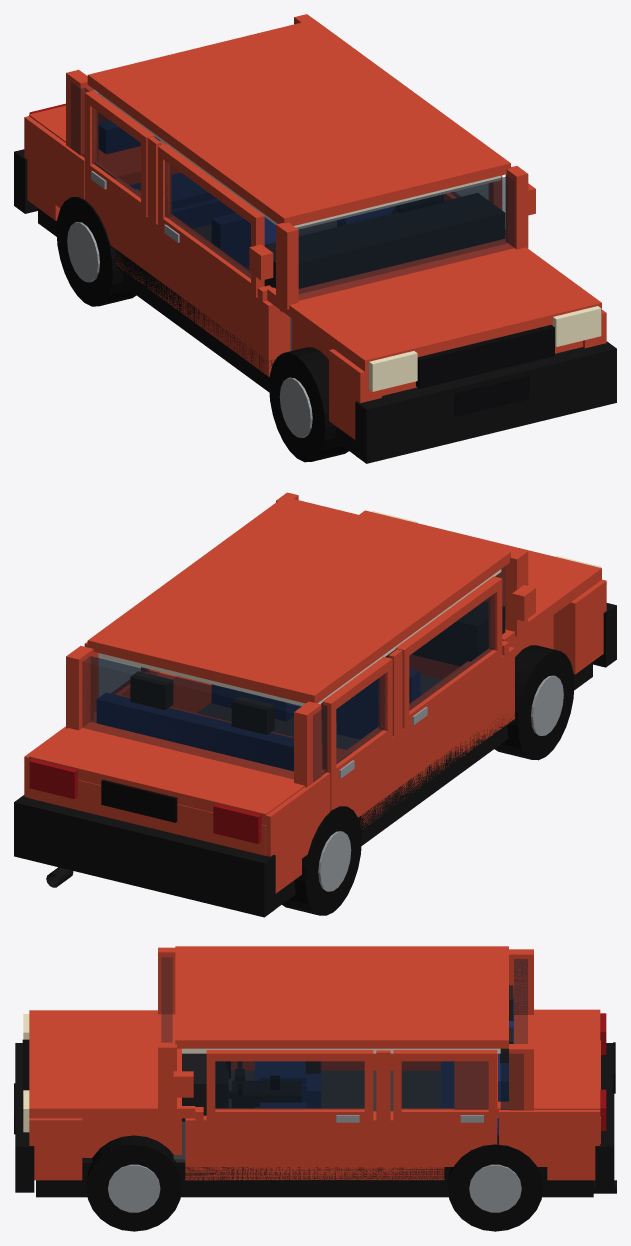
Rendered from mobil.glb.
The picture shows the model from 3 angles, top to bottom: view 1: azimuth 30°, elevation 25°; view 2: azimuth 150°, elevation 25°; view 3: azimuth 270°, elevation 25°; orthographic projection. The views are drawn at different scales.
Parts seen in each view (by area): view 1: Roof, Hood, Windshield, Bumper_F, IntDash, SideSkin_L_-0.39, Door_FL, Door_RL, Door_FL_Glass, Wheel_FL, Grille, Wheel_RL (+23 smaller); view 2: Roof, Bumper_R, RearGlass, TrunkLid, SideSkin_L_-0.39, Seat_Rear, Door_FL, Door_RL, Hood, Door_FL_Glass, Wheel_FL, RearPanel (+29 smaller); view 3: Roof, SideSkin_R_-0.39, Hood, Door_FR, TrunkLid, Door_FR_Glass, Door_RR, Chassis, Wheel_FR, Wheel_RR, Quarter_R, Door_RR_Glass (+27 smaller).
Boxes of the visible parts, bbox=[...] form: Roof: bbox=[87, 19, 510, 225]; Hood: bbox=[267, 238, 601, 371]; Windshield: bbox=[296, 176, 514, 300]; Bumper_F: bbox=[355, 341, 616, 463]; IntDash: bbox=[264, 193, 504, 311]; SideSkin_L_-0.39: bbox=[116, 189, 290, 376]; Door_FL: bbox=[158, 144, 264, 349]; Door_RL: bbox=[84, 90, 154, 270]; Door_FL_Glass: bbox=[165, 161, 250, 278]; Wheel_FL: bbox=[269, 347, 348, 462]; Grille: bbox=[416, 325, 554, 388]; Wheel_RL: bbox=[56, 197, 136, 306]; Roof: bbox=[87, 496, 510, 703]; Bumper_R: bbox=[14, 795, 275, 917]; RearGlass: bbox=[82, 656, 300, 778]; TrunkLid: bbox=[29, 694, 351, 824]; SideSkin_L_-0.39: bbox=[347, 647, 514, 829]; Seat_Rear: bbox=[96, 692, 293, 771]; Door_FL: bbox=[395, 576, 502, 777]; Door_RL: bbox=[322, 657, 392, 817]; Hood: bbox=[359, 510, 601, 647]; Door_FL_Glass: bbox=[409, 593, 494, 710]; Wheel_FL: bbox=[494, 645, 574, 760]; RearPanel: bbox=[28, 768, 265, 855]; Roof: bbox=[175, 946, 508, 1048]; SideSkin_R_-0.39: bbox=[185, 1111, 444, 1180]; Hood: bbox=[29, 1010, 195, 1118]; Door_FR: bbox=[206, 1050, 373, 1166]; TrunkLid: bbox=[454, 1010, 600, 1118]; Door_FR_Glass: bbox=[215, 1061, 364, 1109]; Door_RR: bbox=[393, 1050, 497, 1166]; Chassis: bbox=[36, 1158, 593, 1197]; Wheel_FR: bbox=[86, 1135, 181, 1231]; Wheel_RR: bbox=[447, 1133, 543, 1231]; Quarter_R: bbox=[499, 1110, 600, 1166]; Door_RR_Glass: bbox=[401, 1061, 488, 1109].
Size of the model in its own units: 0.812 by 0.62 by 1.82.
